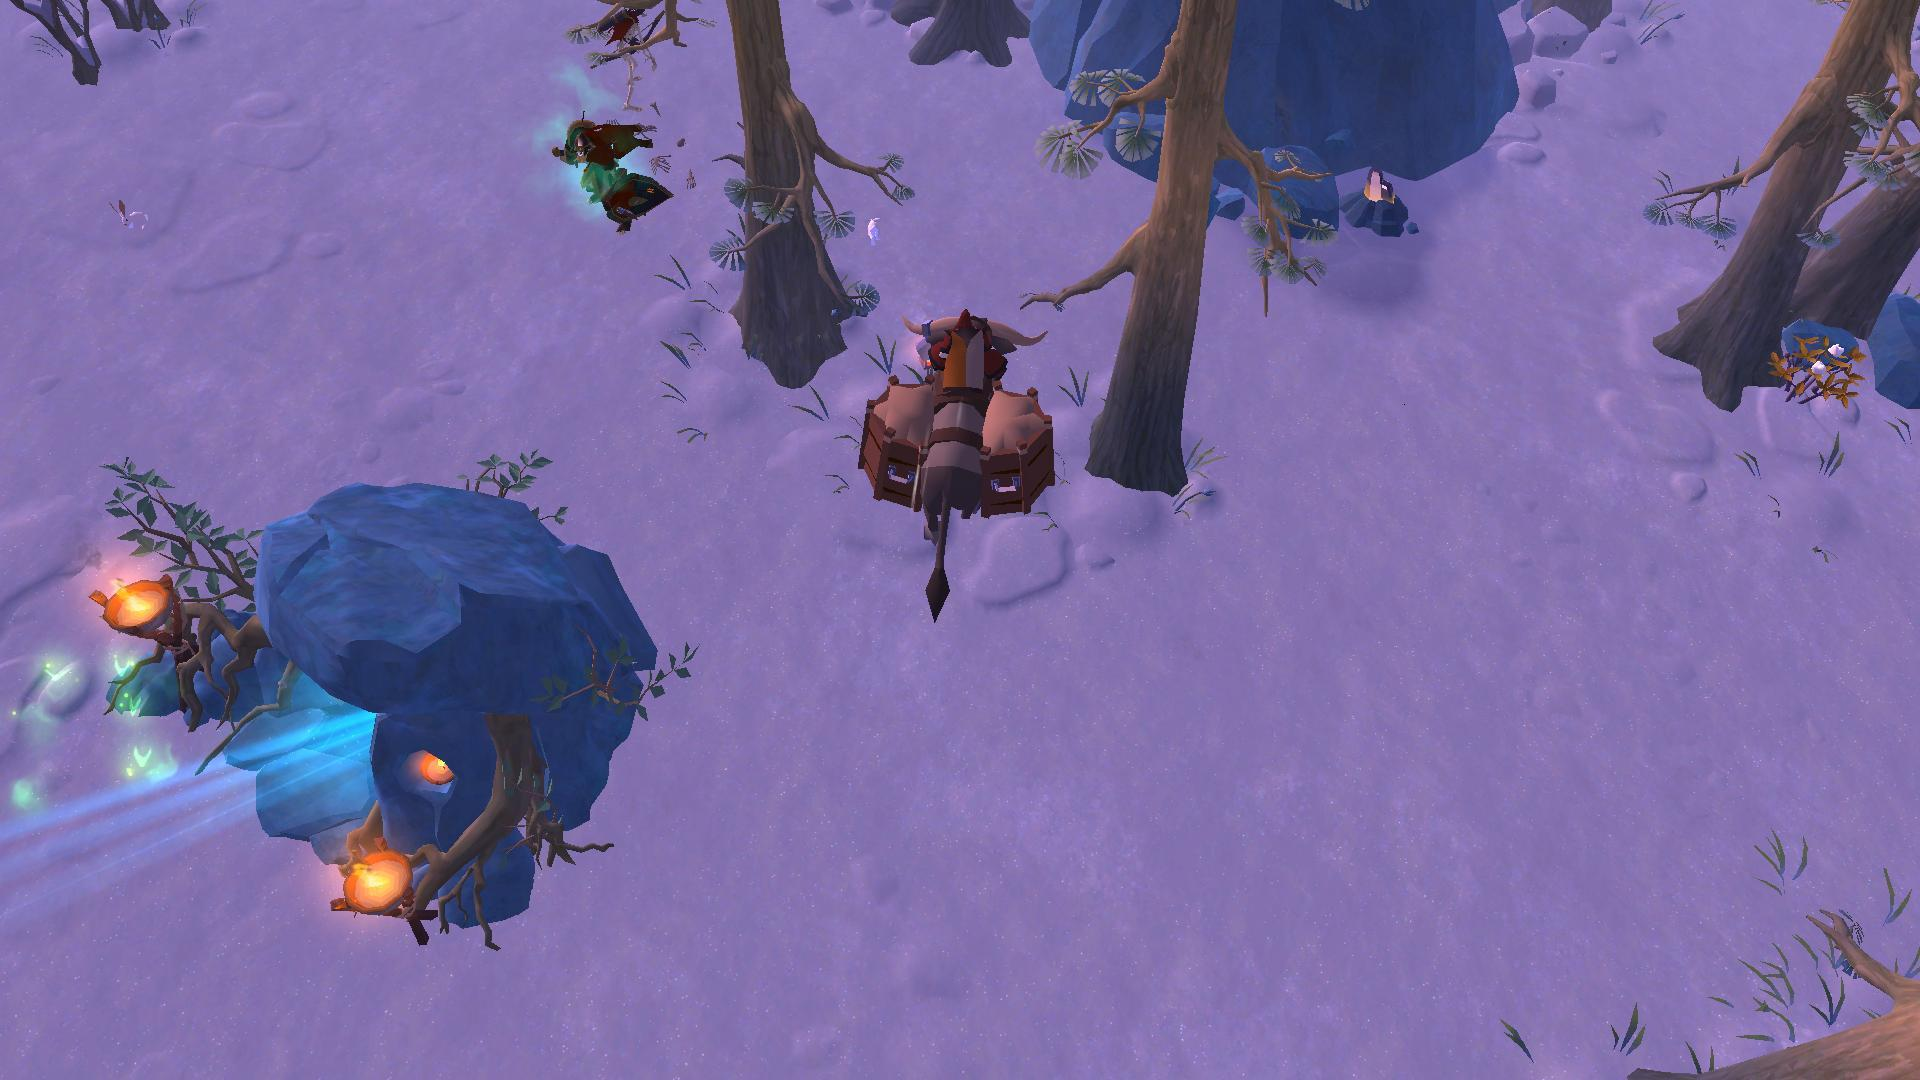enemy_factionUndead: (546, 116, 666, 232), (588, 13, 661, 103)
